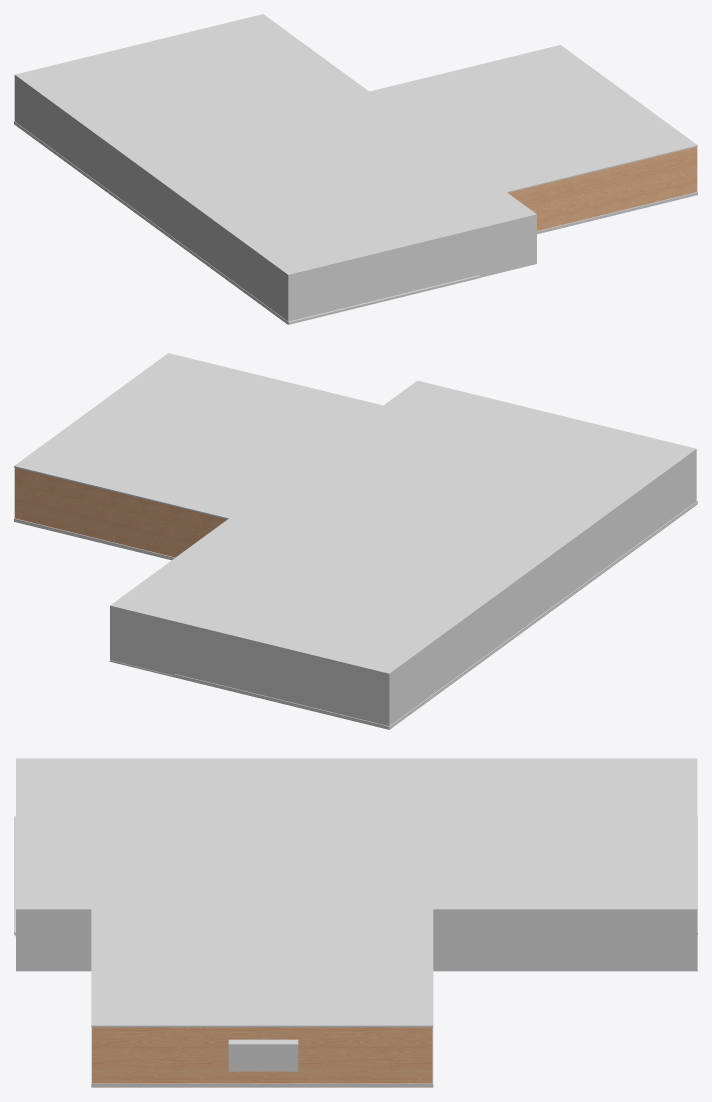
The model's file is echoes_map_teste_text.fbx.
The picture shows the model from 3 angles, top to bottom: view 1: azimuth 30°, elevation 25°; view 2: azimuth 150°, elevation 25°; view 3: azimuth 270°, elevation 25°; orthographic projection. The views are drawn at different scales.
Visible parts, largest first — view 1: teto.001, parede.002, parede, parede.001, rodape.002, chao.002; view 2: teto.001, parede.001, parede, parede.002, rodape.001, chao.001; view 3: teto.001, parede, Cube.002, chao, rodape, Cube.003.
Boxes of the visible parts, box(x1,y1,x2,y2) form: teto.001: box(14, 14, 697, 276); parede.002: box(151, 176, 478, 321); parede: box(508, 147, 697, 230); parede.001: box(14, 76, 151, 221); rodape.002: box(151, 221, 479, 323); chao.002: box(150, 223, 479, 324); teto.001: box(14, 353, 696, 675); parede.001: box(175, 563, 542, 725); parede: box(14, 467, 227, 557); parede.002: box(543, 450, 696, 613); rodape.001: box(174, 613, 543, 728); chao.001: box(174, 616, 543, 729); teto.001: box(16, 758, 697, 1027); parede: box(92, 1027, 432, 1083); Cube.002: box(230, 1039, 298, 1071); chao: box(16, 934, 697, 1087); rodape: box(91, 1027, 433, 1085); Cube.003: box(228, 1039, 297, 1071).
Bounding box in the file's own units: 13221 × 1426 × 14046.
